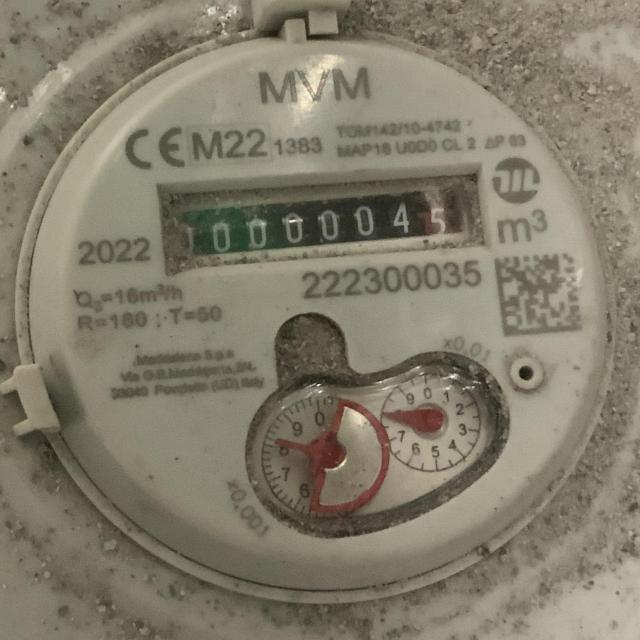gaz_meter: (19, 35, 615, 608)
indication: (161, 174, 478, 267)
